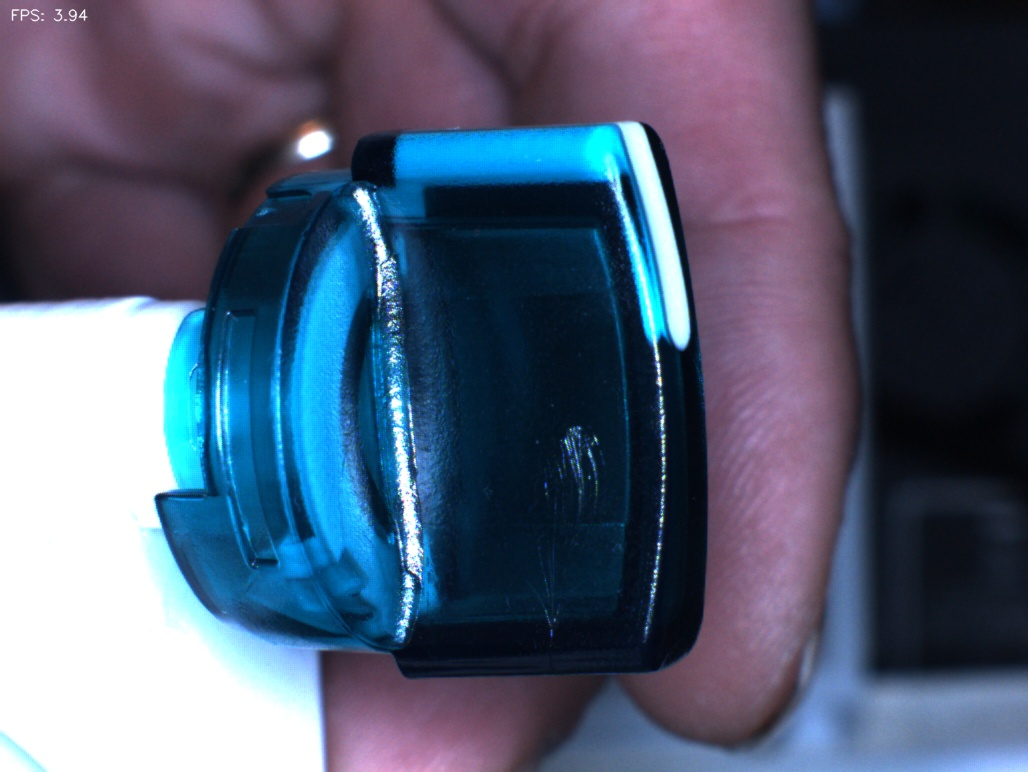Givrage: (522, 418, 611, 648)
